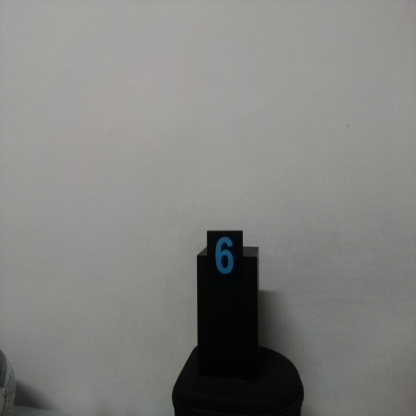id_6: (206, 228, 245, 288)
